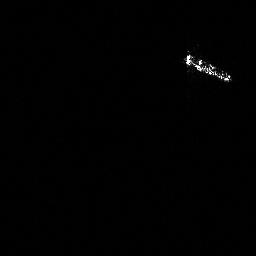ship: (179, 50, 235, 85)
